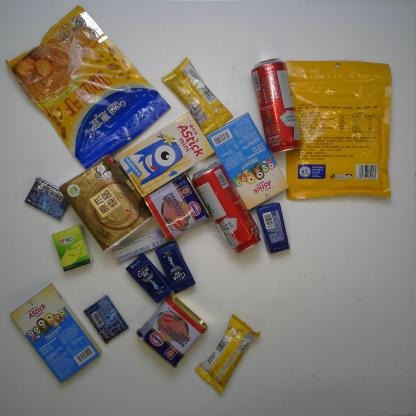Alcohol: (190, 150, 270, 262), (251, 48, 318, 160)
Candy: (103, 224, 183, 268)
Canned Food: (119, 290, 211, 369), (137, 167, 215, 242)
Chocolate: (190, 309, 268, 393), (158, 56, 234, 134)
Dessert: (8, 272, 106, 393), (112, 102, 216, 202), (205, 111, 296, 213)
Dried Fruit: (10, 5, 178, 169), (281, 41, 400, 209)
Gum: (84, 290, 135, 350), (20, 173, 70, 225)
Personal Hygiene: (254, 198, 304, 265), (153, 232, 199, 295), (126, 254, 174, 309)
Tissue: (52, 150, 148, 252), (47, 226, 103, 277)
